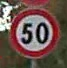limite 50: (9, 7, 59, 58)
